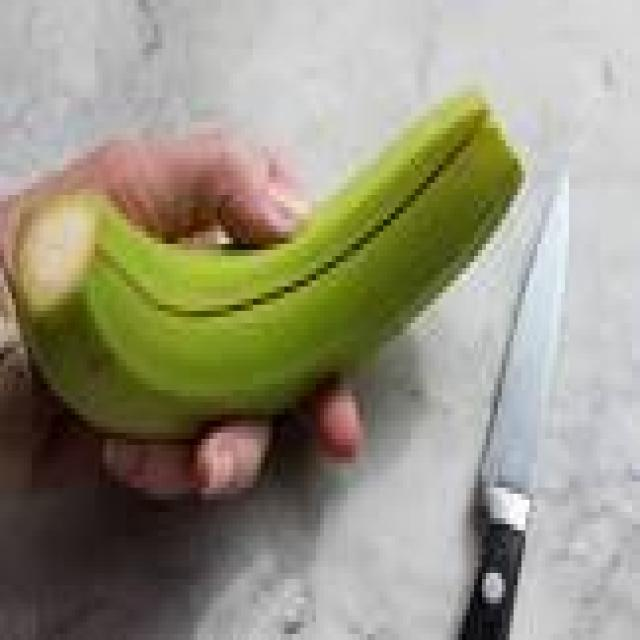banana: (12, 92, 521, 438)
